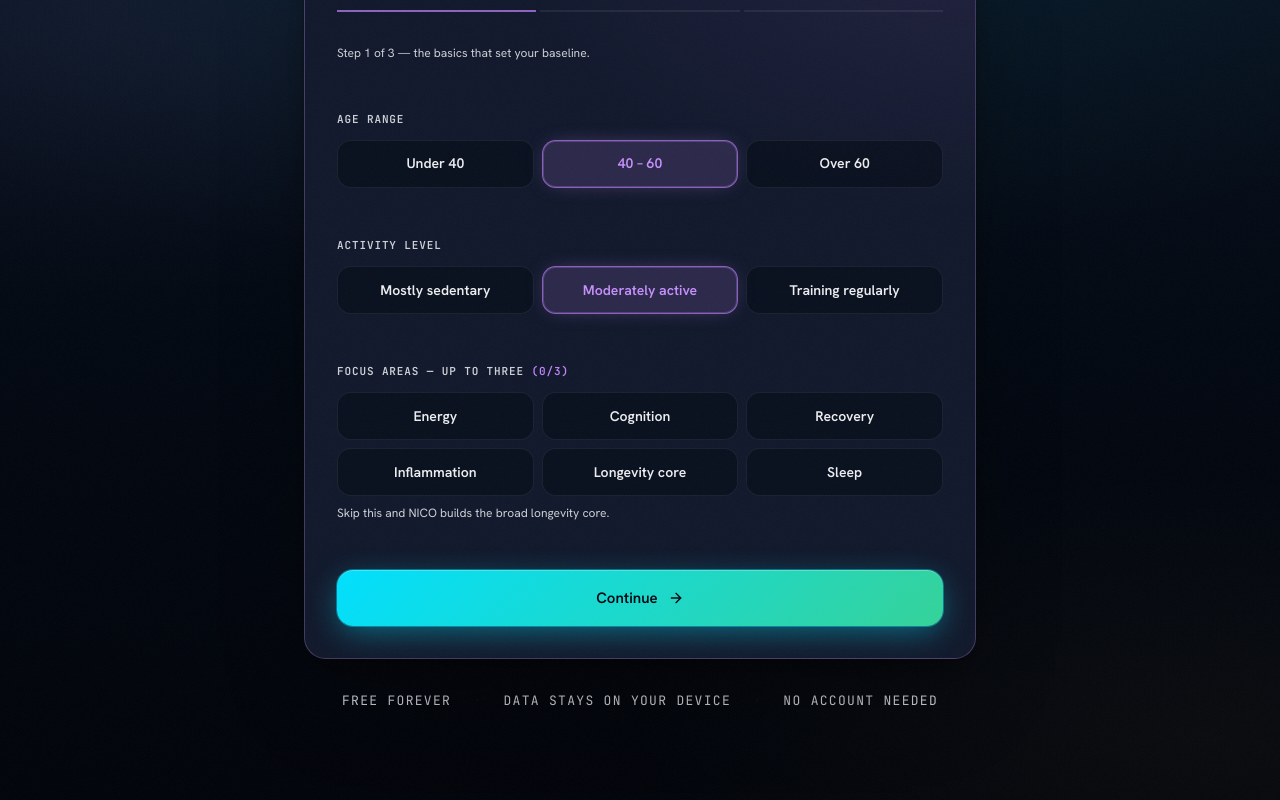
Test: HomeNicoStarter › asks the lifestyle pillars the engine actually scores, using its own wording
(page scrolled)
Step 1. Click the button "Continue" → coordinates (640, 598), box left=337, top=570, right=943, bottom=626
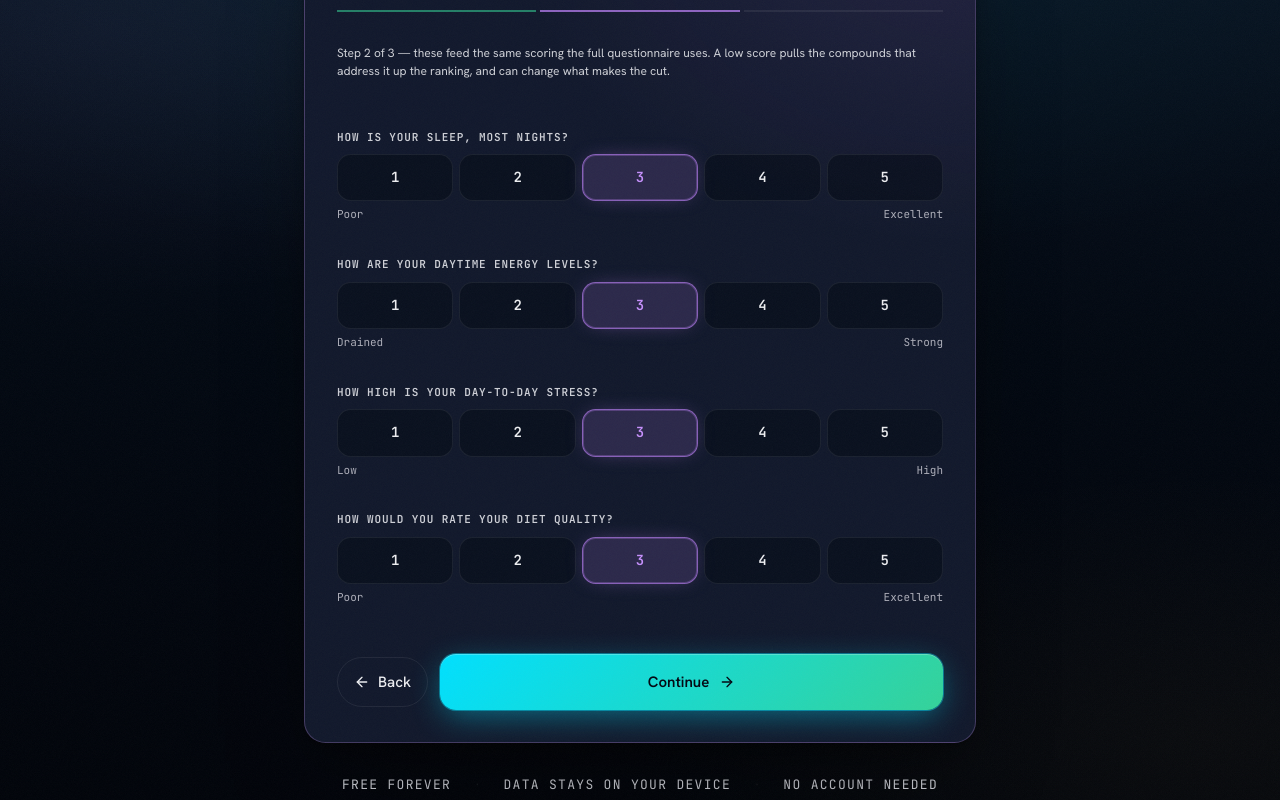
Expected: the text "How is your sleep, most nights?" is shown, left=337, top=128, right=569, bottom=146
Expected: the text "How are your daytime energy levels?" is shown, left=337, top=255, right=599, bottom=274
Expected: the text "How high is your day-to-day stress?" is shown, left=337, top=383, right=599, bottom=401
